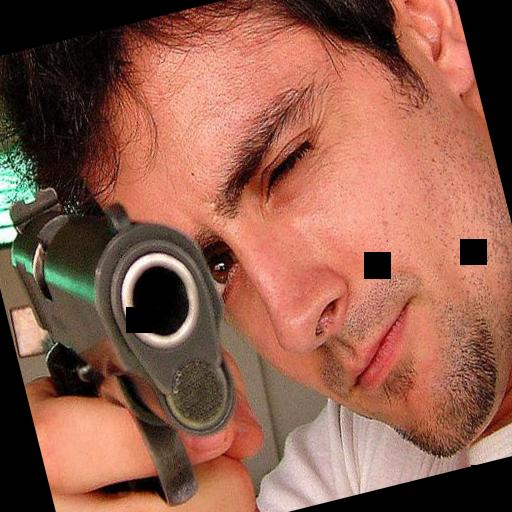Handgun: (0, 155, 256, 512)
